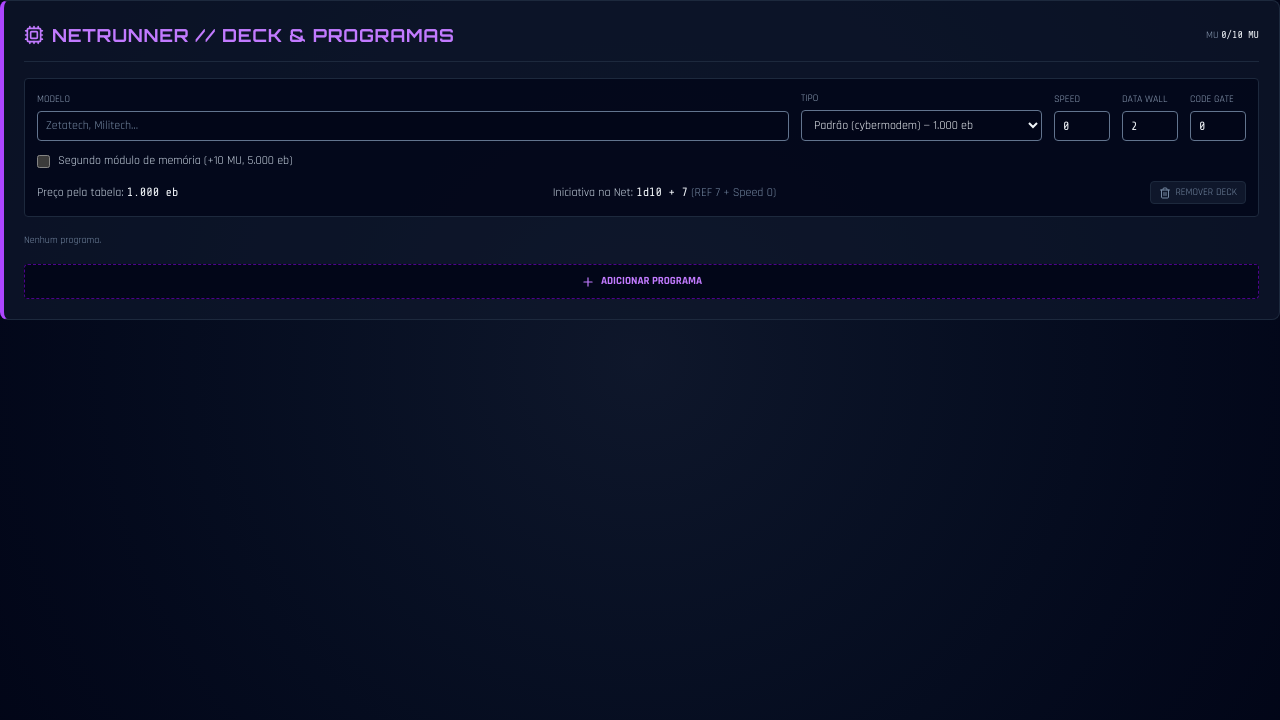
Test: K.5c — o deck na ficha › o tipo e a Speed mudam o preço; a Speed entra na iniciativa na Net
Select "Celular — 4.000 eb" in the dropdown named "tipo do deck": coordinates (922, 126) [801,110,1042,141]
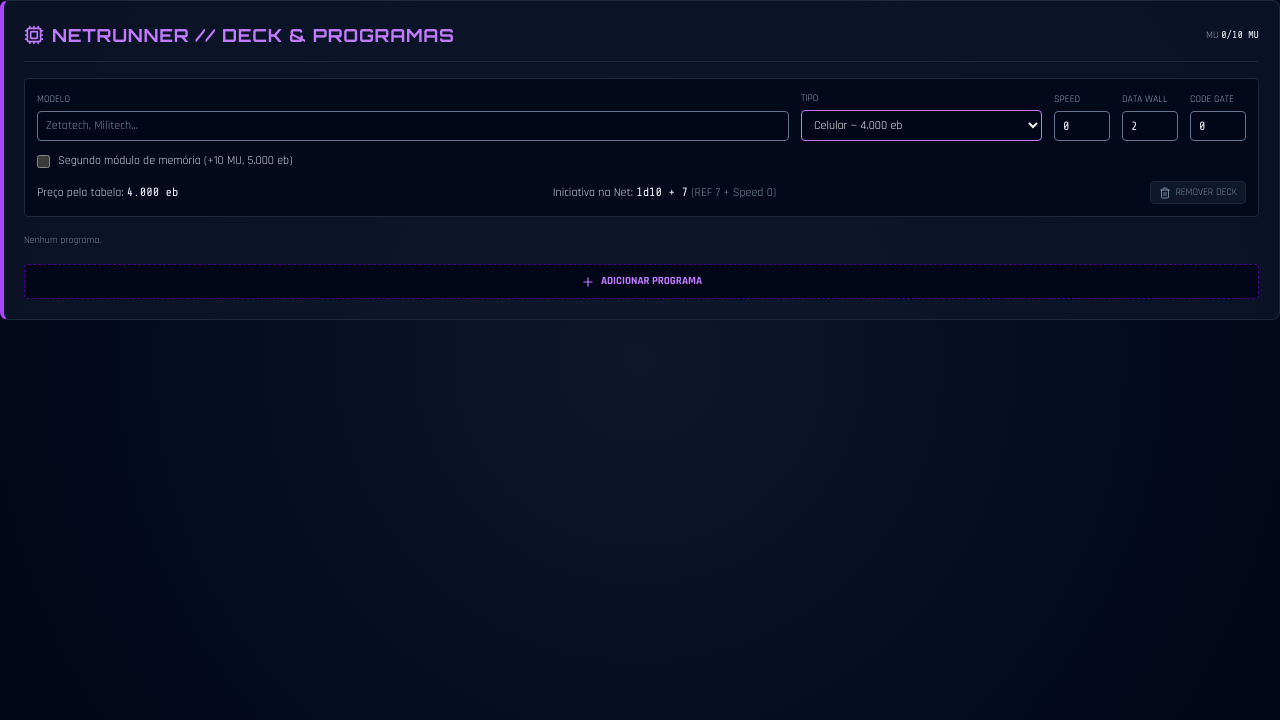
Replace the text in the field named "speed do deck" with "2": coordinates (1082, 126) [1054,111,1110,141]
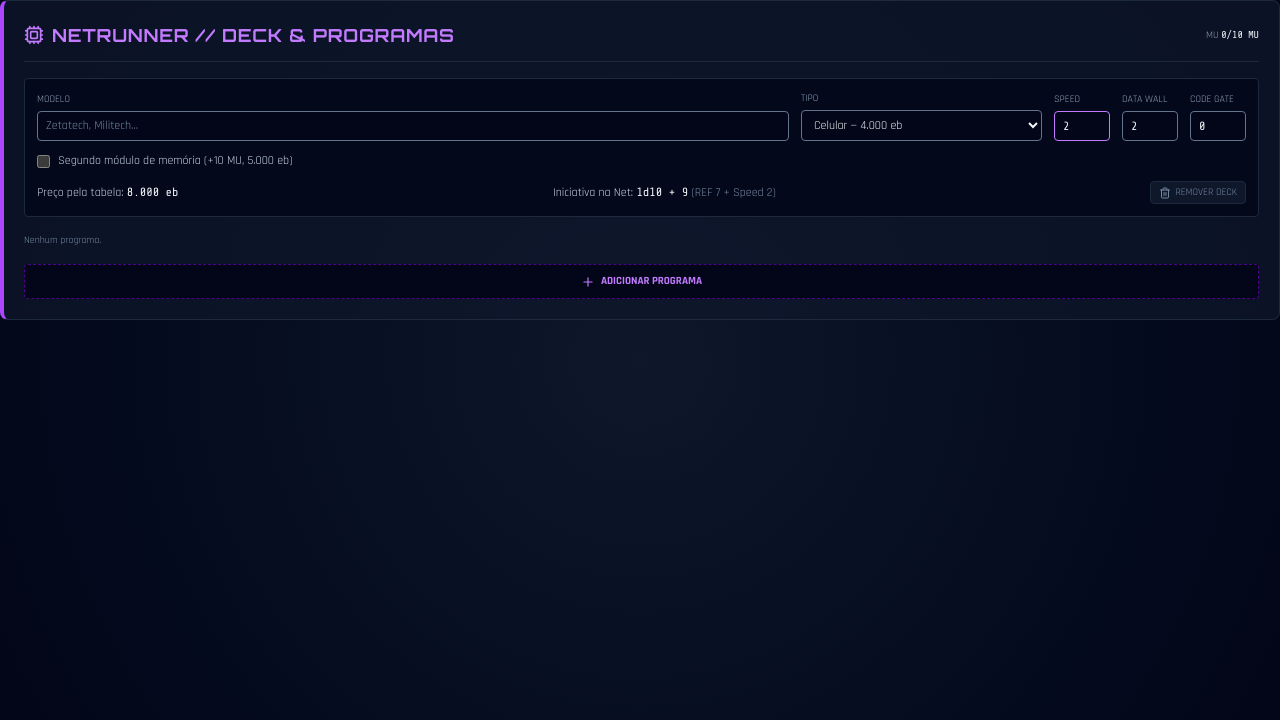
Expected: the text with test id "net-initiative" reads "1d10 + 9", [636,185,688,199]
